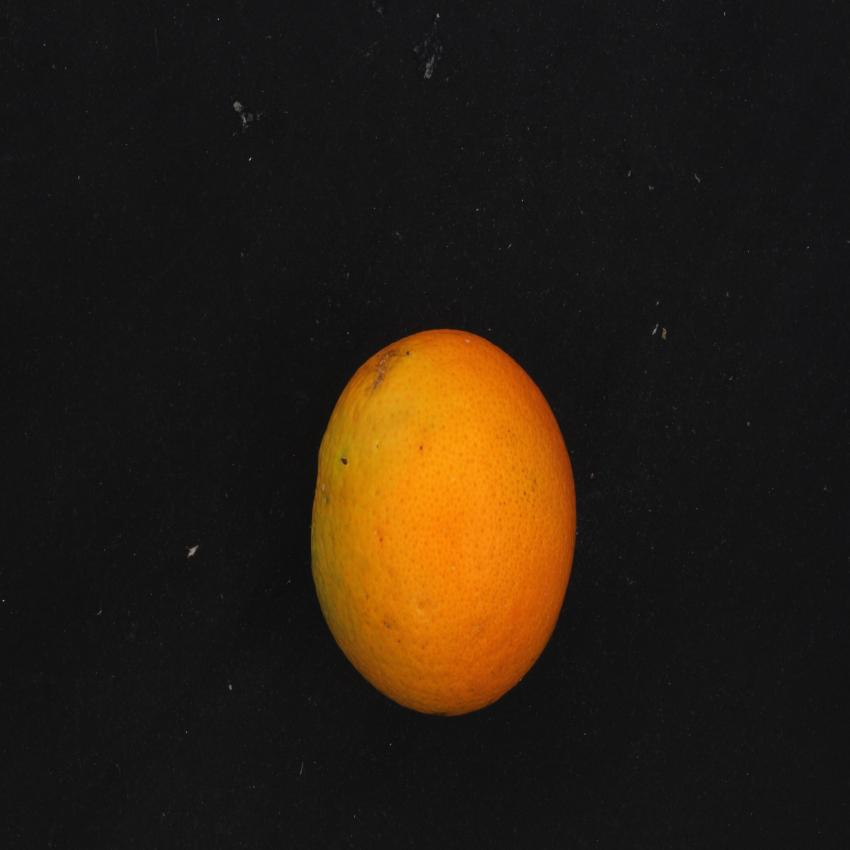Buen estado: (307, 317, 587, 732)
